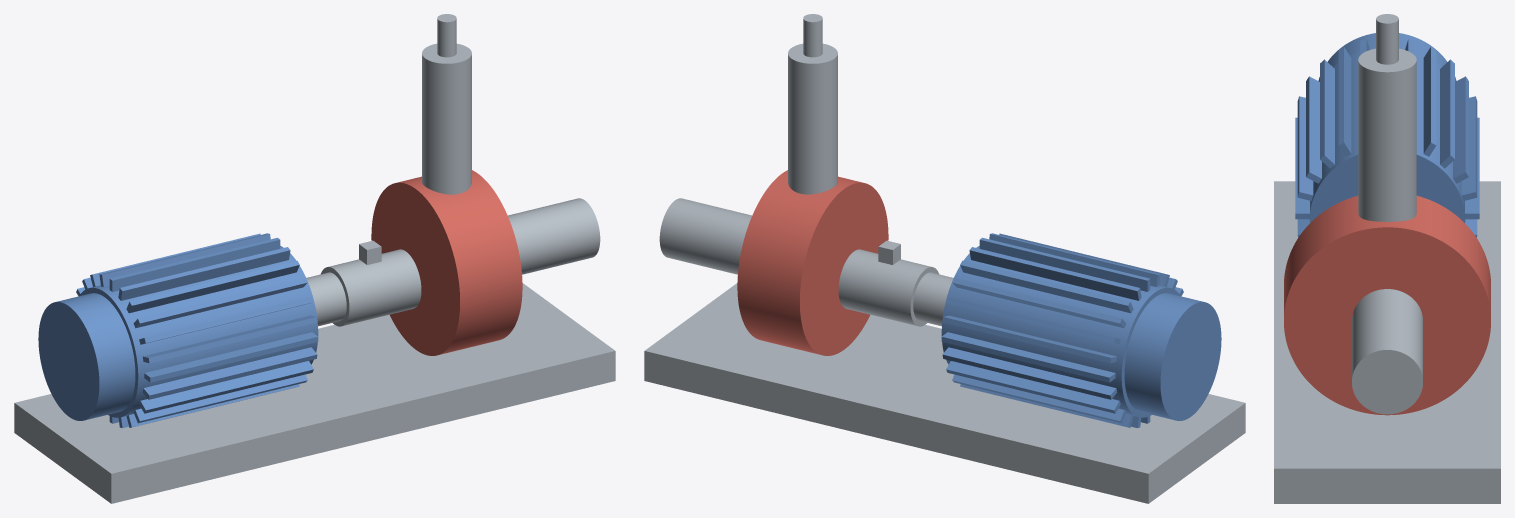
The model's file is pump-unit.glb.
The picture shows the model from 3 angles, left to right: view 1: azimuth 30°, elevation 25°; view 2: azimuth 150°, elevation 25°; view 3: azimuth 270°, elevation 25°; orthographic projection. The views are drawn at different scales.
Visible parts, largest first — view 1: frame, motor, pump, fan, outlet, inlet, bearing, coupling, sensor-p; view 2: frame, motor, pump, fan, outlet, inlet, bearing, coupling, sensor-p; view 3: frame, pump, motor, outlet, inlet, sensor-p, fan.
Part boxes in pixels (box(x1,y1,x2,y2)): frame: box(14, 283, 615, 503); motor: box(76, 233, 318, 428); pump: box(371, 170, 522, 355); fan: box(38, 293, 135, 420); outlet: box(422, 43, 471, 194); inlet: box(508, 198, 600, 274); bearing: box(321, 249, 421, 326); coupling: box(306, 272, 346, 326); sensor-p: box(437, 14, 456, 57); frame: box(644, 283, 1245, 503); motor: box(941, 233, 1183, 428); pump: box(737, 170, 888, 355); fan: box(1124, 293, 1221, 420); outlet: box(788, 43, 837, 194); inlet: box(659, 198, 751, 274); bearing: box(838, 249, 938, 326); coupling: box(913, 272, 953, 326); sensor-p: box(803, 14, 822, 57); frame: box(1274, 181, 1500, 503); pump: box(1284, 195, 1490, 415); motor: box(1295, 39, 1479, 237); outlet: box(1358, 48, 1416, 221); inlet: box(1352, 289, 1422, 414); sensor-p: box(1376, 14, 1398, 64); fan: box(1318, 33, 1456, 81).
Bounding box in the file's own units: 2.17 × 1.42 × 0.7.
